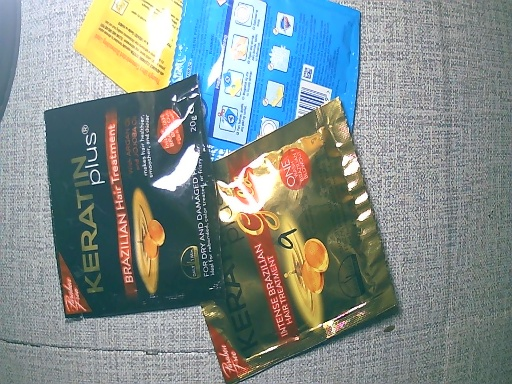plastic: (202, 103, 398, 384), (43, 83, 221, 321), (176, 1, 366, 155), (68, 1, 180, 99)
